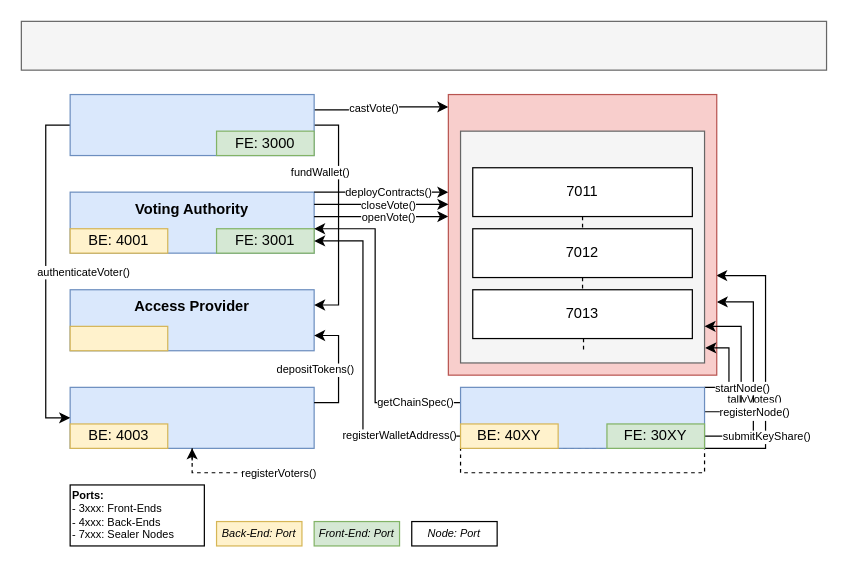
Image size: 848x567. Some labels were removed from this diagram. The shapes that lost their labels are listed below. From the top down, each one's box as (x1, y1, x2, y2) in pixels, then its label:
(20, 20, 827, 70): eVoting (Local Deployment)
(69, 93, 314, 156): Voting
(447, 93, 717, 375): Proof of Authority Blockchain
(459, 130, 705, 363): Authority Nodes (Sealers)
(69, 325, 168, 351): BE: 4002
(69, 386, 314, 448): Identity Provider
(459, 386, 705, 448): Sealer
(459, 447, 705, 473): 11 ≤ xy ≤ 99
